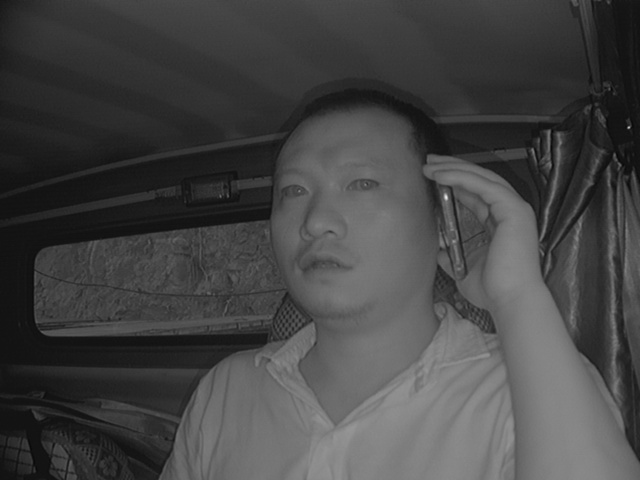hand: (417, 151, 540, 321)
